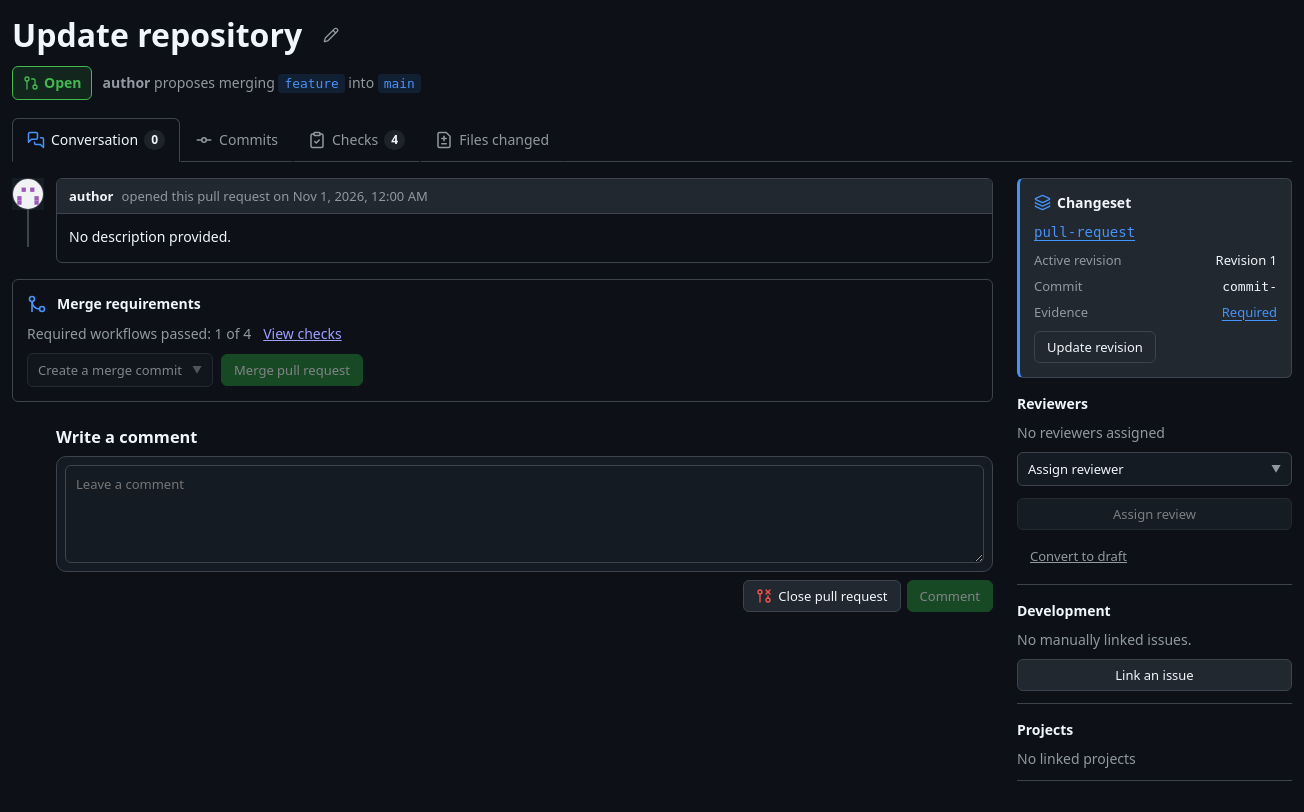
Test: PullRequestDetailPage › shows distinct workflow statuses and enables Merge after the required rule is removed
The width and height of the screenshot is (1304, 812).
Later steps or results of the test are not shown.
Expected: the button "Merge pull request" is disabled, [221, 354, 363, 386]
Expected: the text "Required workflows passed: 1 of 4" is shown, [27, 324, 251, 343]
Click the link "View checks" at (302, 333), box [263, 324, 342, 343]
Wait 5000 ms
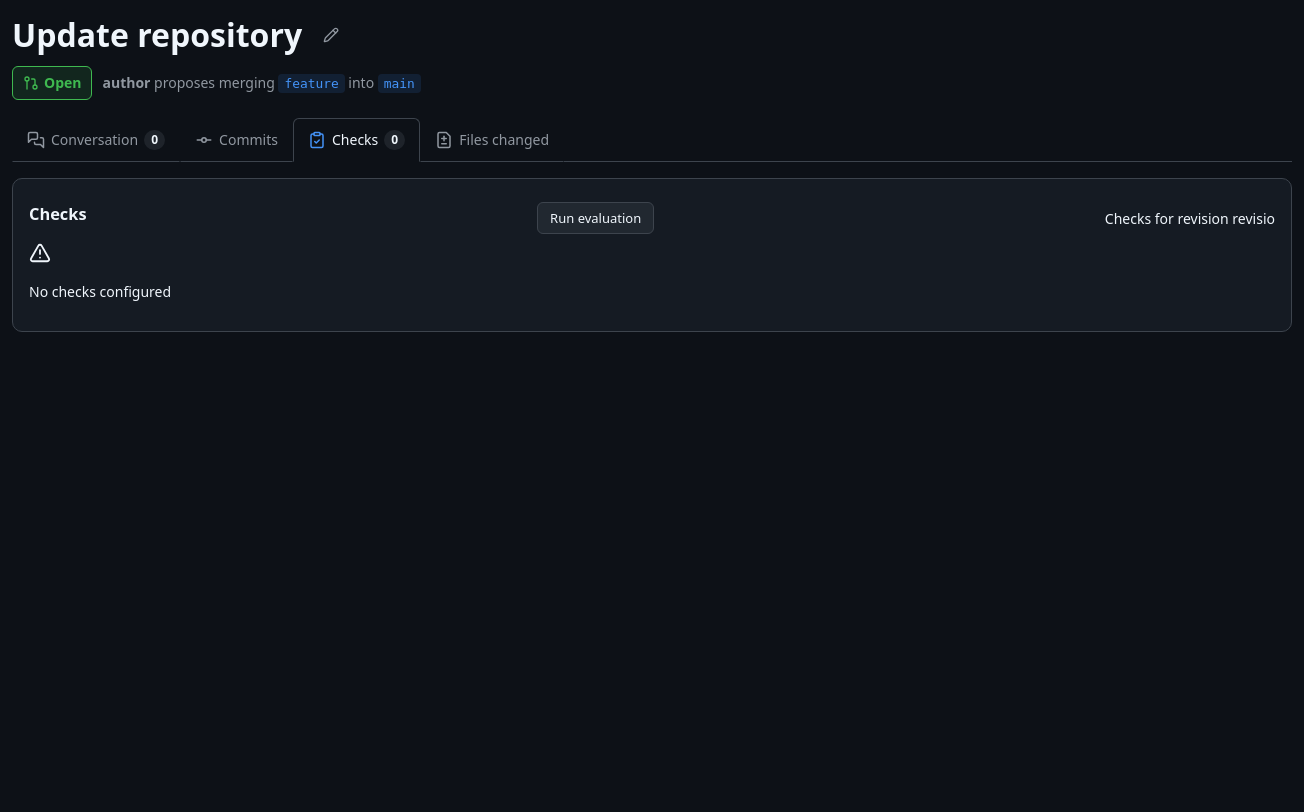
Click the tab "Conversation 0" at (96, 140), box [12, 118, 180, 162]
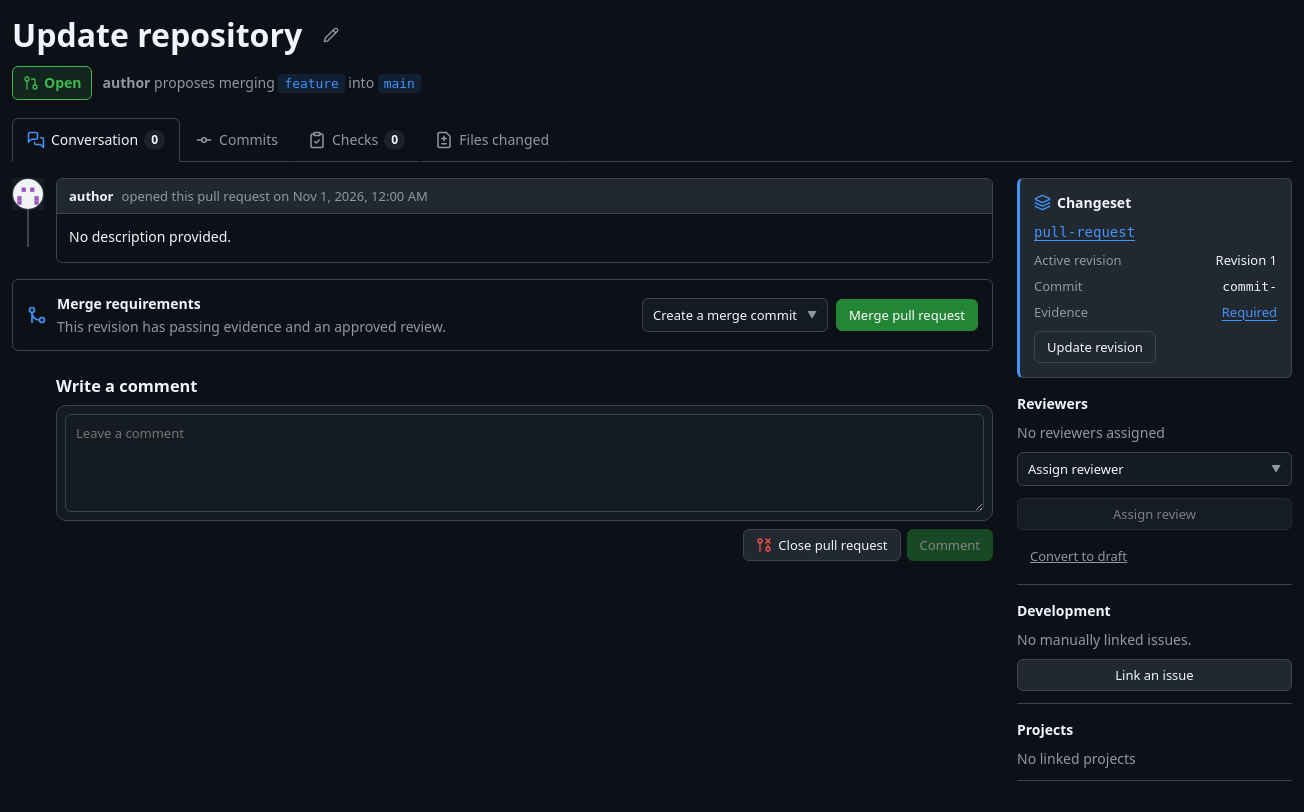
Expected: the button "Merge pull request" is enabled, [836, 299, 978, 331]
